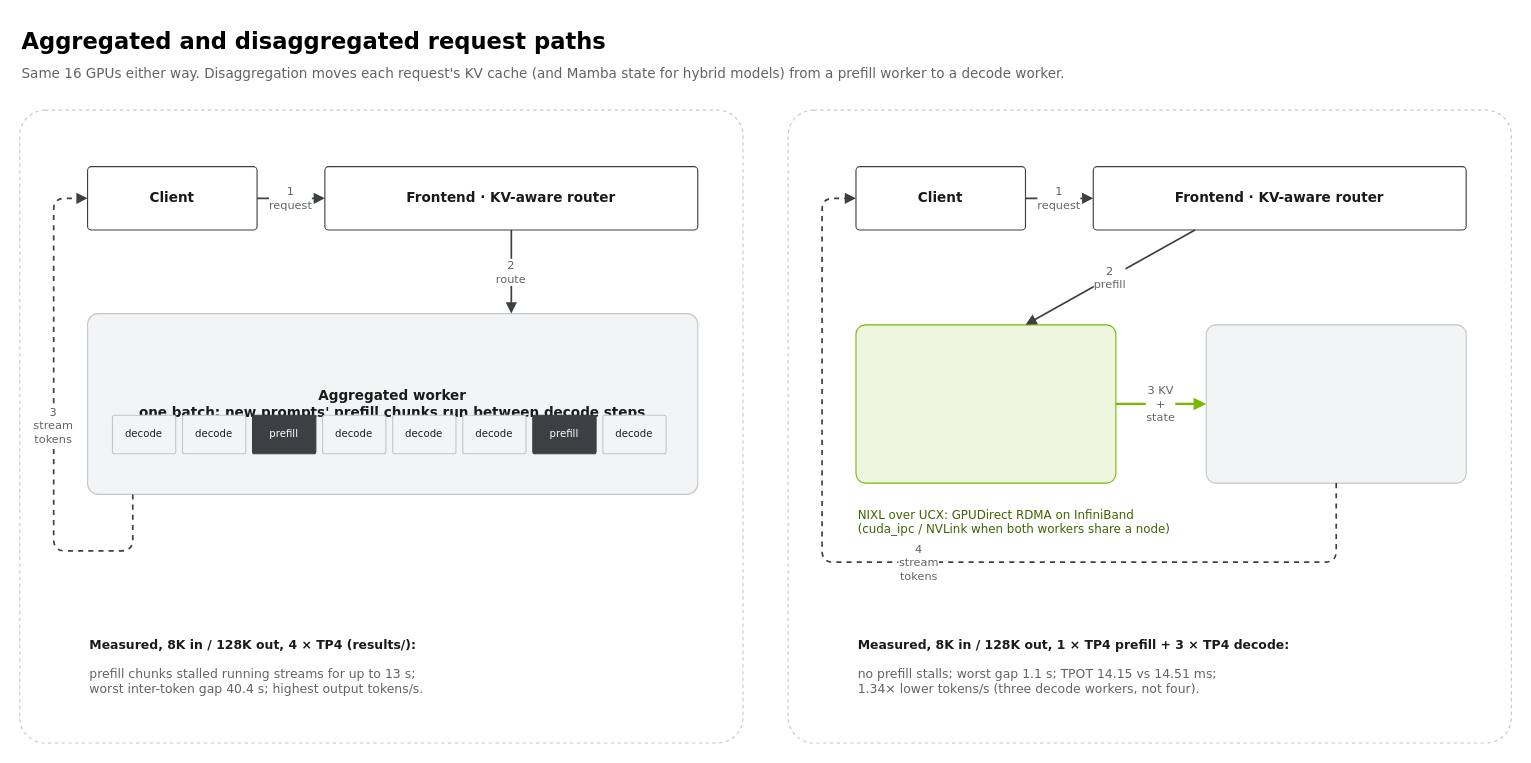
Some shapes in this 1531 by 763 pixel diagram are drawn without their labels. Each missing label, with the box of its shape:
Aggregated: every worker runs both phases: (19, 109, 743, 743)
Decode worker generates tokens; never runs prefill: (1205, 324, 1466, 483)
Disaggregated: separate prefill and decode pools: (787, 109, 1511, 743)
Prefill worker computes the prompt's KV cache and Mamba state: (855, 324, 1116, 483)
